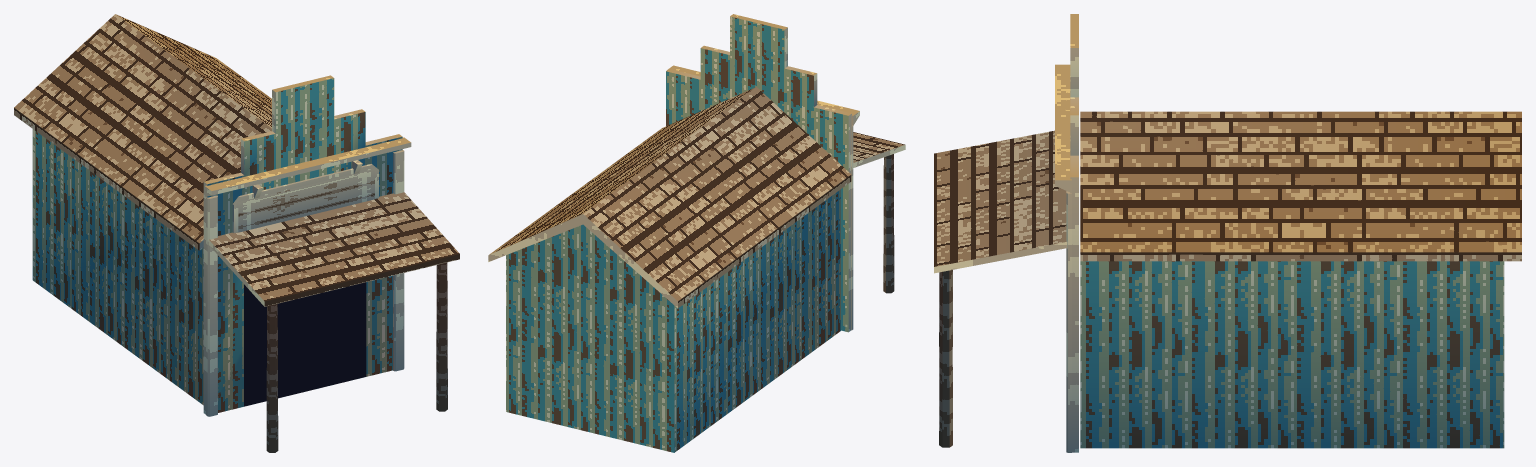
Rendered from wtown.facade__entry.glb.
3 views of the same model, side by side, from view 1: azimuth 30°, elevation 25°; view 2: azimuth 150°, elevation 25°; view 3: azimuth 270°, elevation 25° (orthographic). The views are drawn at different scales.
Visible parts, largest first — view 1: kit_roof, kit_body, kit_porch, kit_front, kit_card_panes, kit_trim; view 2: kit_body, kit_roof, kit_front, kit_porch, kit_trim; view 3: kit_body, kit_roof, kit_porch, kit_trim, kit_front.
Part boxes in pixels (x1,y1,x2,y2): kit_roof: (14,14,271,250); kit_body: (32,129,203,405); kit_porch: (208,192,459,452); kit_front: (203,75,402,414); kit_card_panes: (238,169,374,406); kit_trim: (204,137,411,416); kit_body: (506,189,840,452); kit_roof: (488,87,851,308); kit_front: (666,14,851,332); kit_porch: (853,132,905,293); kit_trim: (667,65,859,330); kit_body: (1080,261,1504,448); kit_roof: (1080,111,1521,261); kit_porch: (934,130,1067,447); kit_trim: (1055,64,1071,452); kit_front: (1070,14,1078,452).
Bounding box in the file's own units: 3.94 × 5.7 × 8.32.
Materials: 6 (6 with a texture image).
